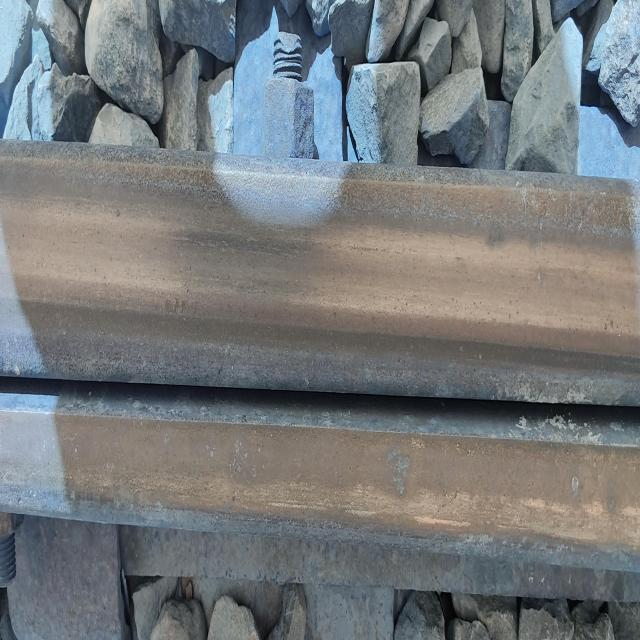head_checks_low: (385, 439, 415, 501), (570, 466, 582, 508)
